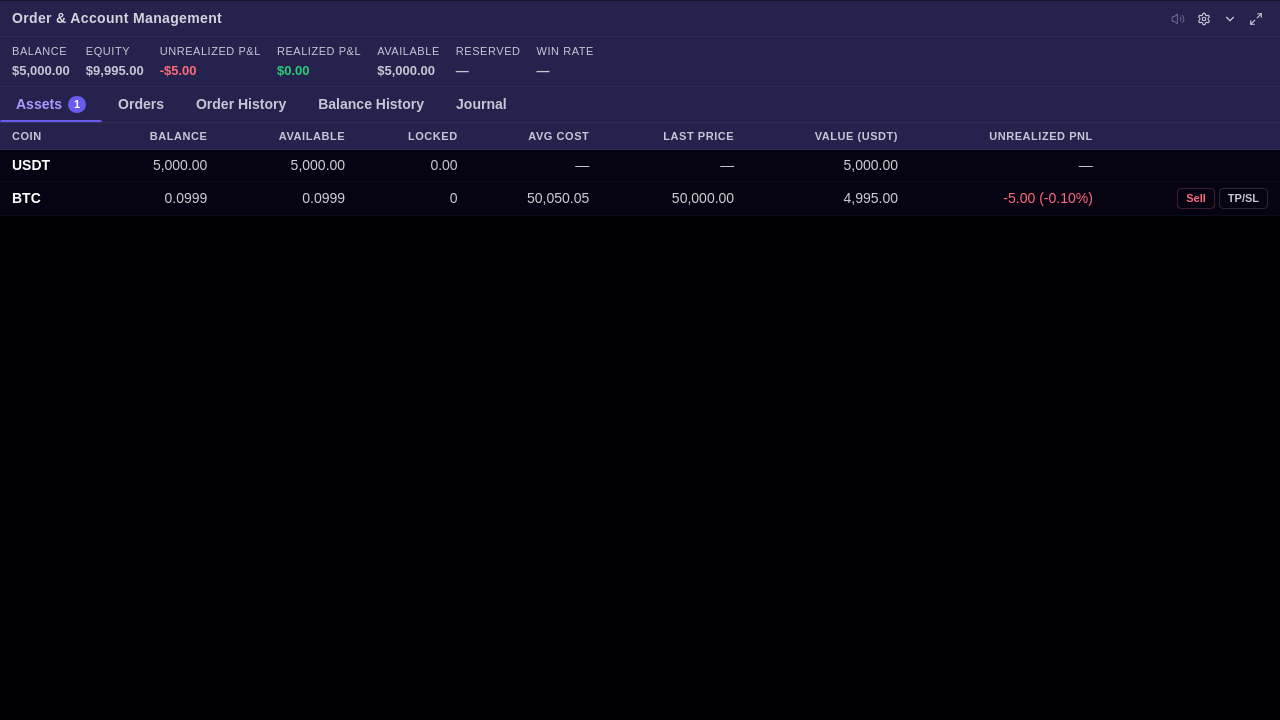
Test: SpotExitsModal — Assets → TP / SL (14.6.7) › [14.6.7] should keep the modal open with the server’s reason when the server refuses
Click the button "TP/SL" at x=1243, y=198, box [1219,188,1268,209]
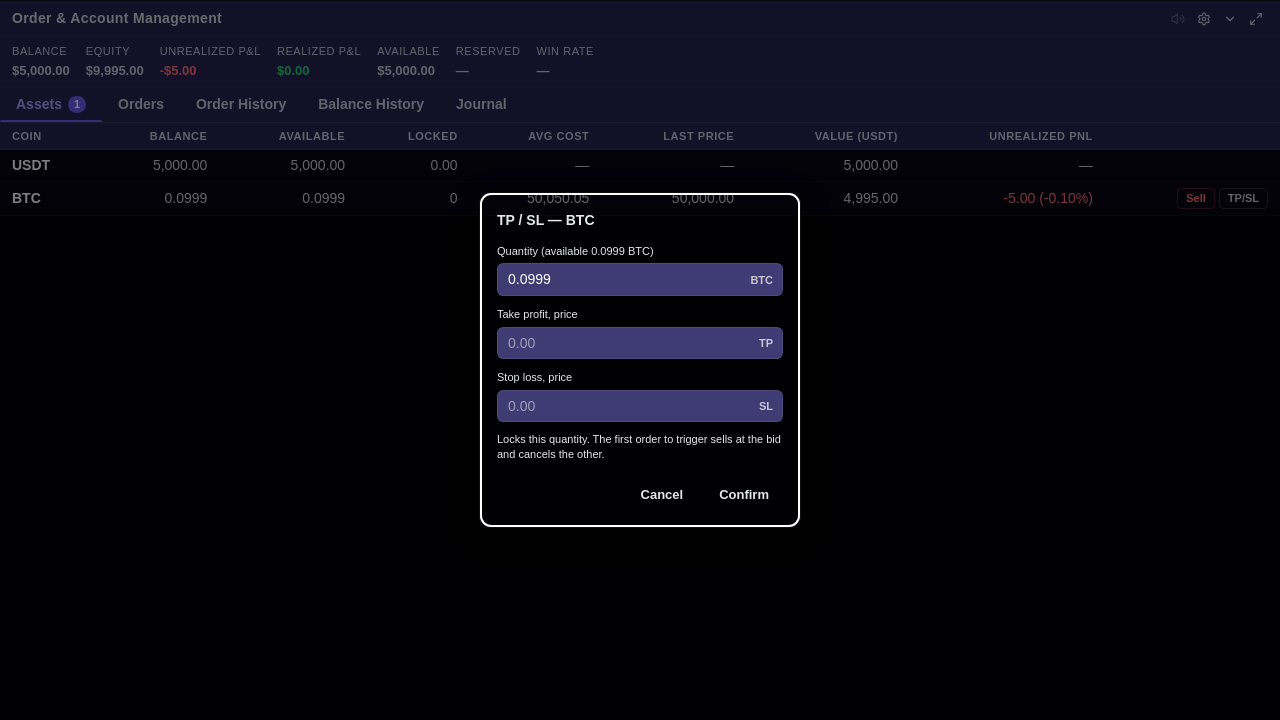
Type "40000" into the number field named "Take profit price" at x=640, y=343, box [497,326,783,359]
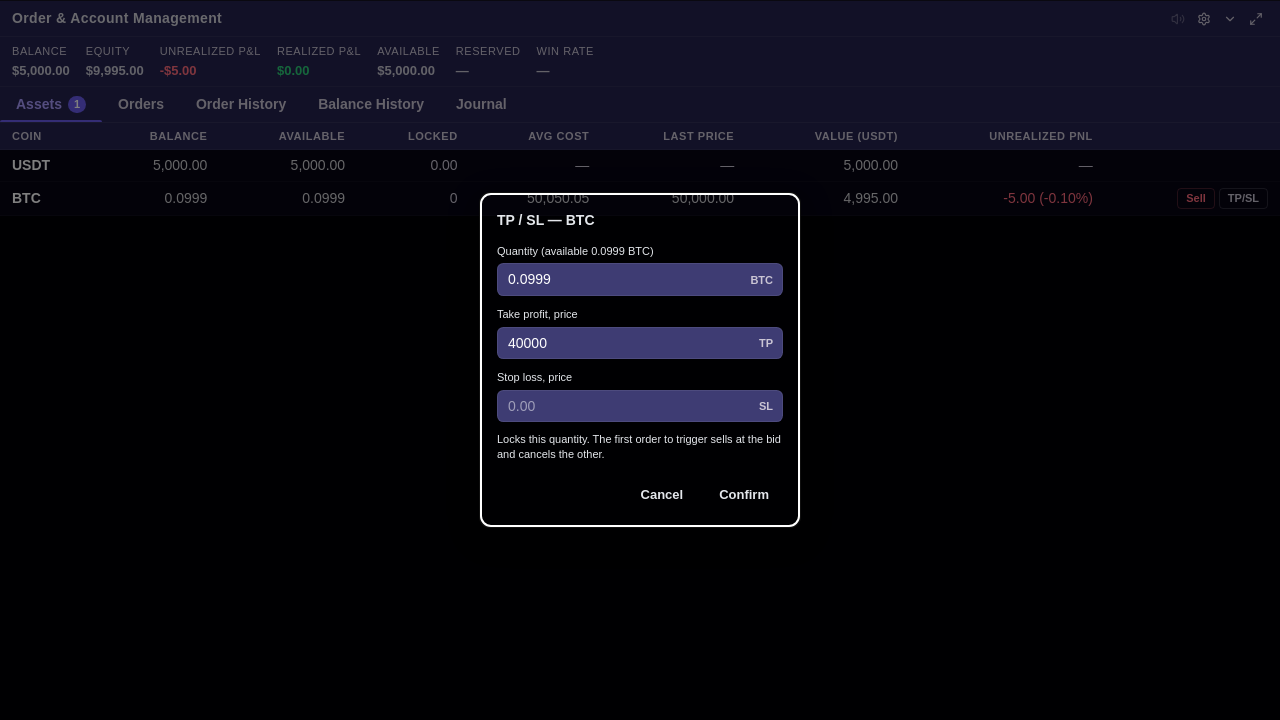
Click the button "Confirm" at x=744, y=494, box [705,479,783,510]
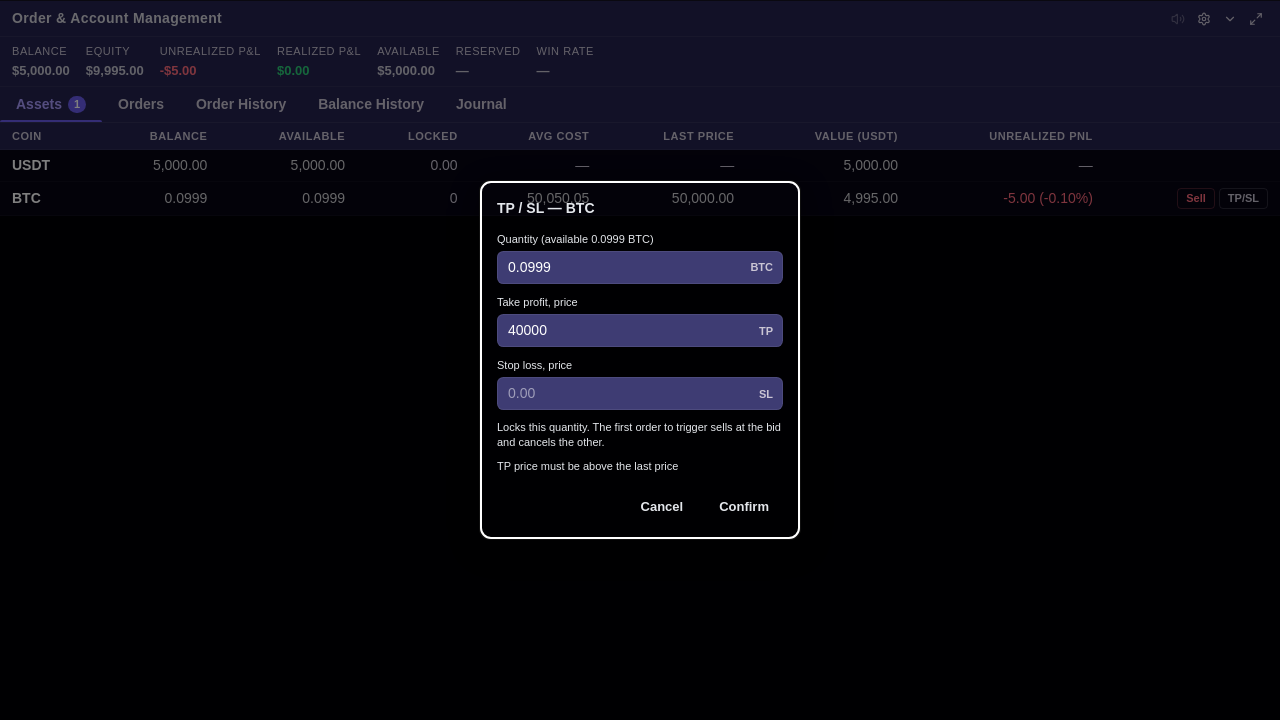
Expected: the cell "0" is shown, [357,182,470,215]
Expected: the dialog is shown, [480,181,800,539]
Expected: the message reads "TP price must be above the last price", [497,460,678,472]
